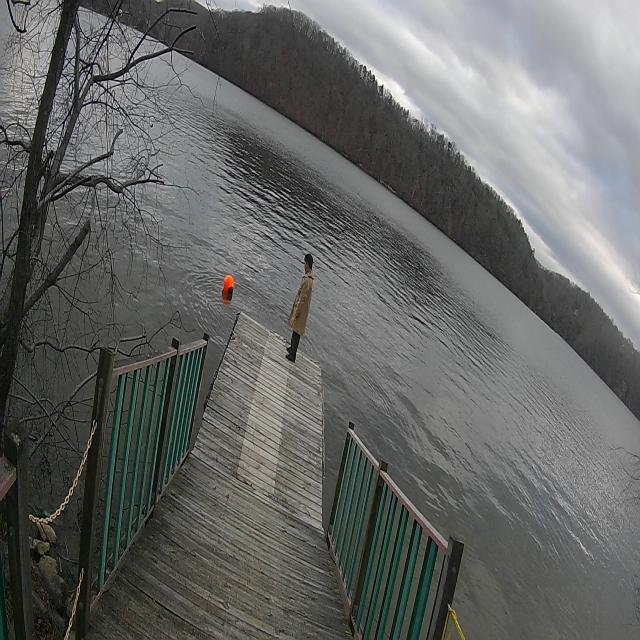Buoy: (219, 264, 237, 306)
